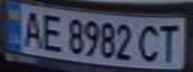2: (115, 20, 136, 62)
8: (63, 16, 84, 55), (100, 19, 118, 60)
9: (81, 17, 100, 57)
A: (18, 7, 45, 48)
C: (136, 21, 163, 63)
E: (36, 11, 66, 53)
T: (154, 20, 184, 63)
